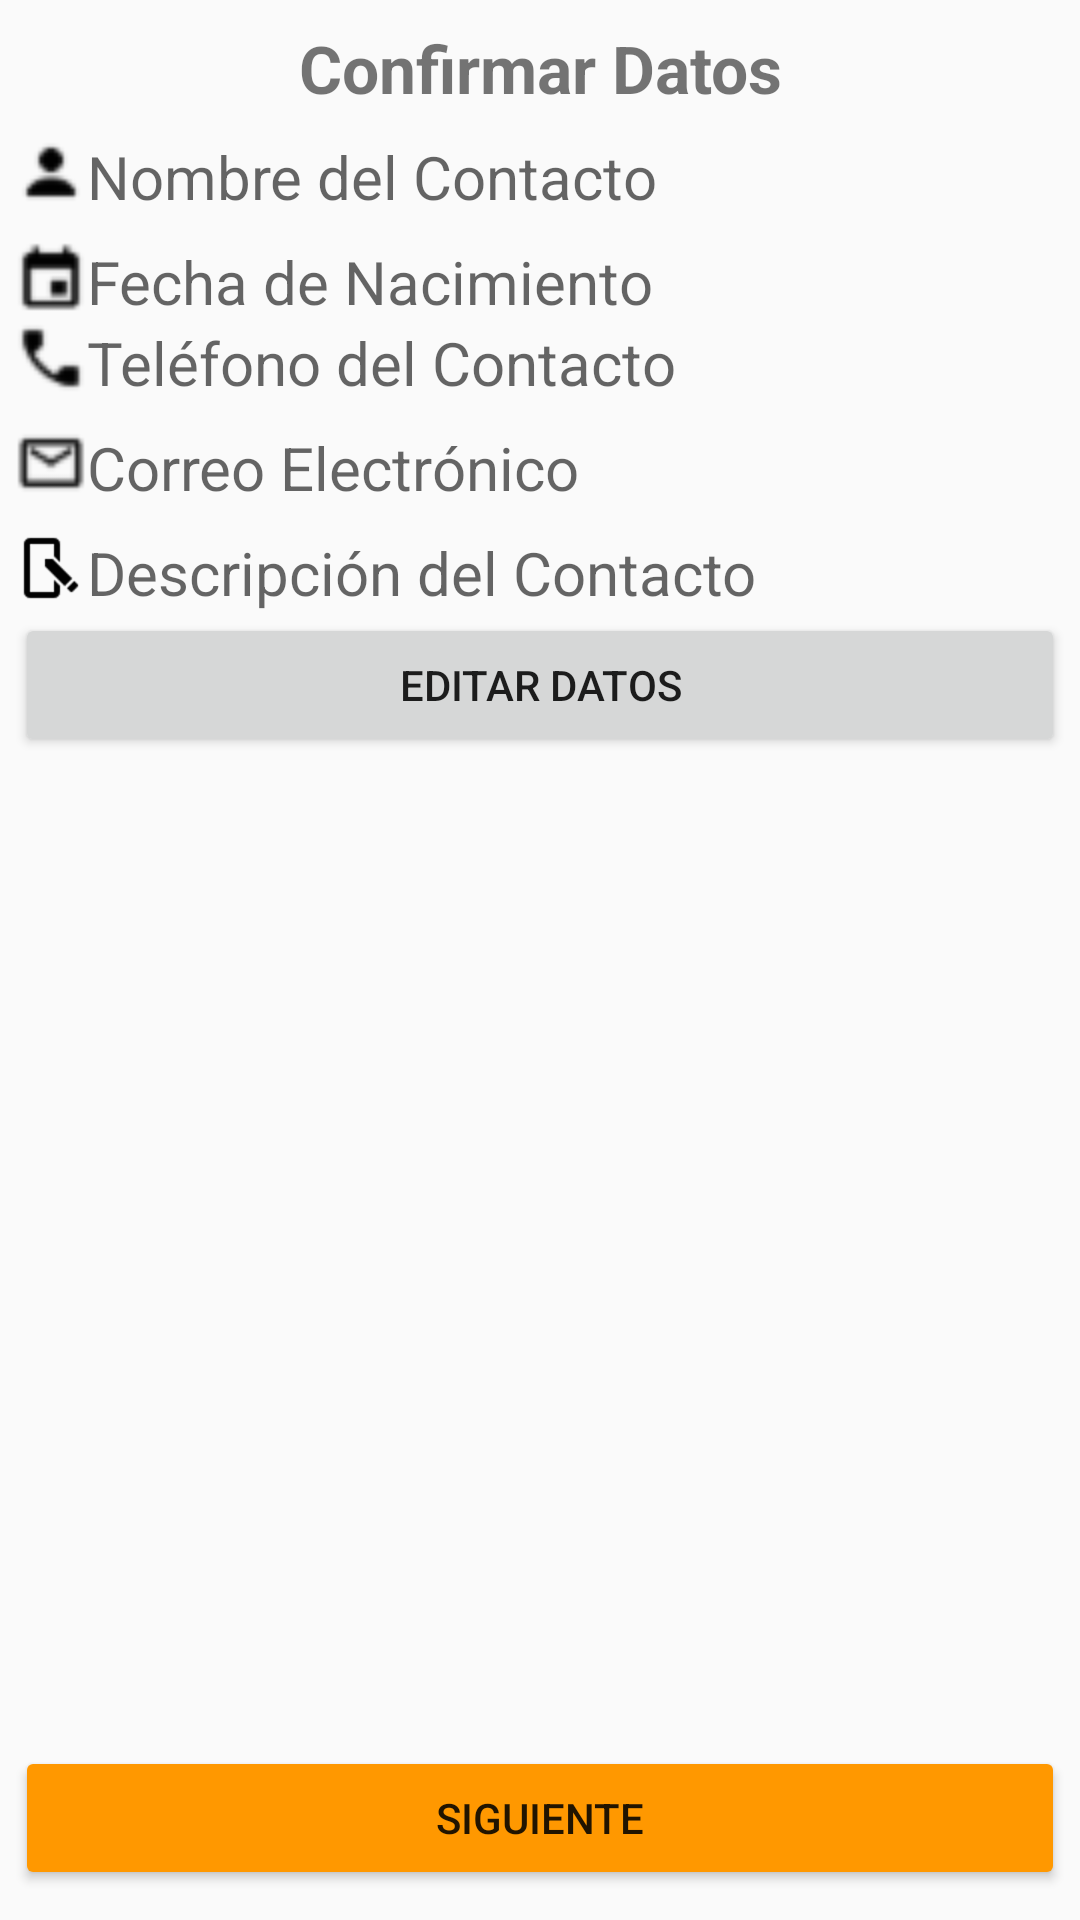

Named icons in this screenshot (1080*1920) and their centers, [x,y]:
iconcalendar: [51,277]
iconedit: [51,568]
iconuser: [51,172]
